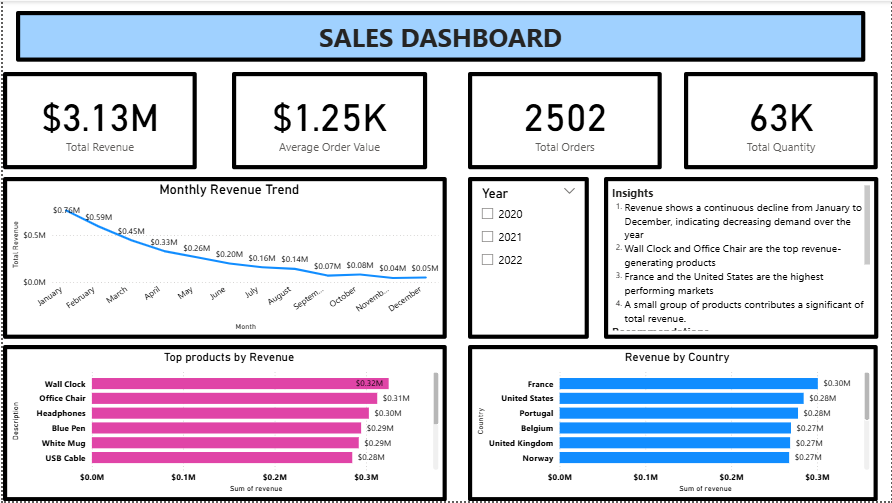

Layout of this report page (visuals, bound fields, positions):
{"tool":"powerbi","page":{"name":"Sales Analysis","canvas":[1280,720],"ordinal":0},"visuals":[{"type":"card","fields":{"Values":["online_sales_dataset.Total Revenue"]},"box":[0,102.2,279.4,139.7],"z":0},{"type":"card","fields":{"Values":["online_sales_dataset.Total Orders"]},"box":[669.6,102.2,279.4,139.7],"z":1000},{"type":"card","fields":{"Values":["online_sales_dataset.Total Quantity"]},"box":[980.6,102.2,279.4,139.7],"z":2000},{"type":"card","fields":{"Values":["online_sales_dataset.Average Order Value"]},"box":[329.8,102.2,280.8,139.7],"z":3000},{"type":"lineChart","title":"Monthly Revenue Trend","fields":{"Category":["online_sales_dataset.InvoiceDate.Variation.Date Hierarchy.Month"],"Y":["online_sales_dataset.Total Revenue"]},"box":[0,253.4,639.4,233.3],"z":4000},{"type":"textbox","box":[865.4,253.4,394.6,233.3],"z":5000},{"type":"textbox","box":[0,496,639,224],"z":6000},{"type":"slicer","fields":{"Values":["online_sales_dataset.InvoiceDate.Variation.Date Hierarchy.Year"]},"box":[669.6,253.4,174.2,233.3],"z":7000},{"type":"barChart","title":"Top products by Revenue","fields":{"Category":["online_sales_dataset.Description"],"Y":["Sum(online_sales_dataset.Revenue)"]},"box":[0,495.4,639.4,224.6],"z":8000},{"type":"barChart","title":"Revenue by Country","fields":{"Category":["online_sales_dataset.Country"],"Y":["Sum(online_sales_dataset.Revenue)"]},"box":[669.6,495.4,590.4,224.6],"z":9000},{"type":"textbox","box":[18.7,14.4,1222.6,73.4],"z":10000}]}

Visuals, with their boxes in screenshot pixels (x1, y1, x2, y2), scaled from the page's 1280x720 canvas onto the 892x503 screenshot:
card - online_sales_dataset.Total Revenue: rect(0, 71, 195, 169)
card - online_sales_dataset.Total Orders: rect(467, 71, 661, 169)
card - online_sales_dataset.Total Quantity: rect(683, 71, 878, 169)
card - online_sales_dataset.Average Order Value: rect(230, 71, 426, 169)
"Monthly Revenue Trend" lineChart: rect(0, 177, 446, 340)
textbox: rect(603, 177, 878, 340)
textbox: rect(0, 347, 445, 502)
slicer - online_sales_dataset.InvoiceDate.Variation.Date Hierarchy.Year: rect(467, 177, 588, 340)
"Top products by Revenue" barChart: rect(0, 346, 446, 502)
"Revenue by Country" barChart: rect(467, 346, 878, 502)
textbox: rect(13, 10, 865, 61)
